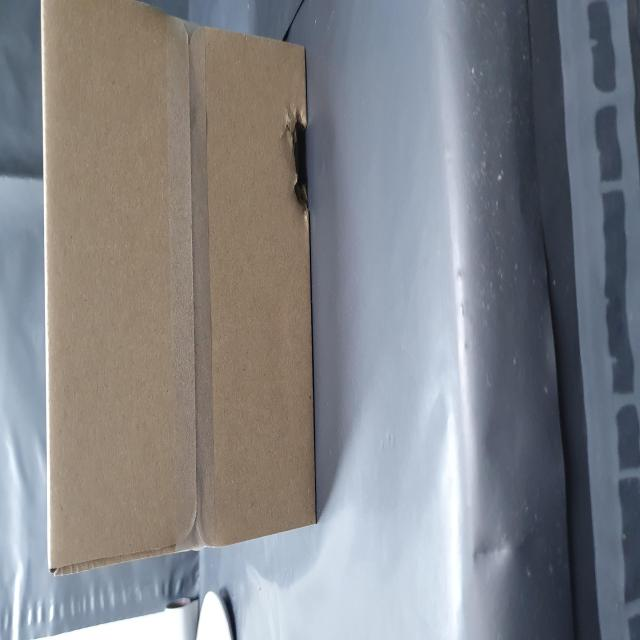damaged: (232, 500, 304, 557)
